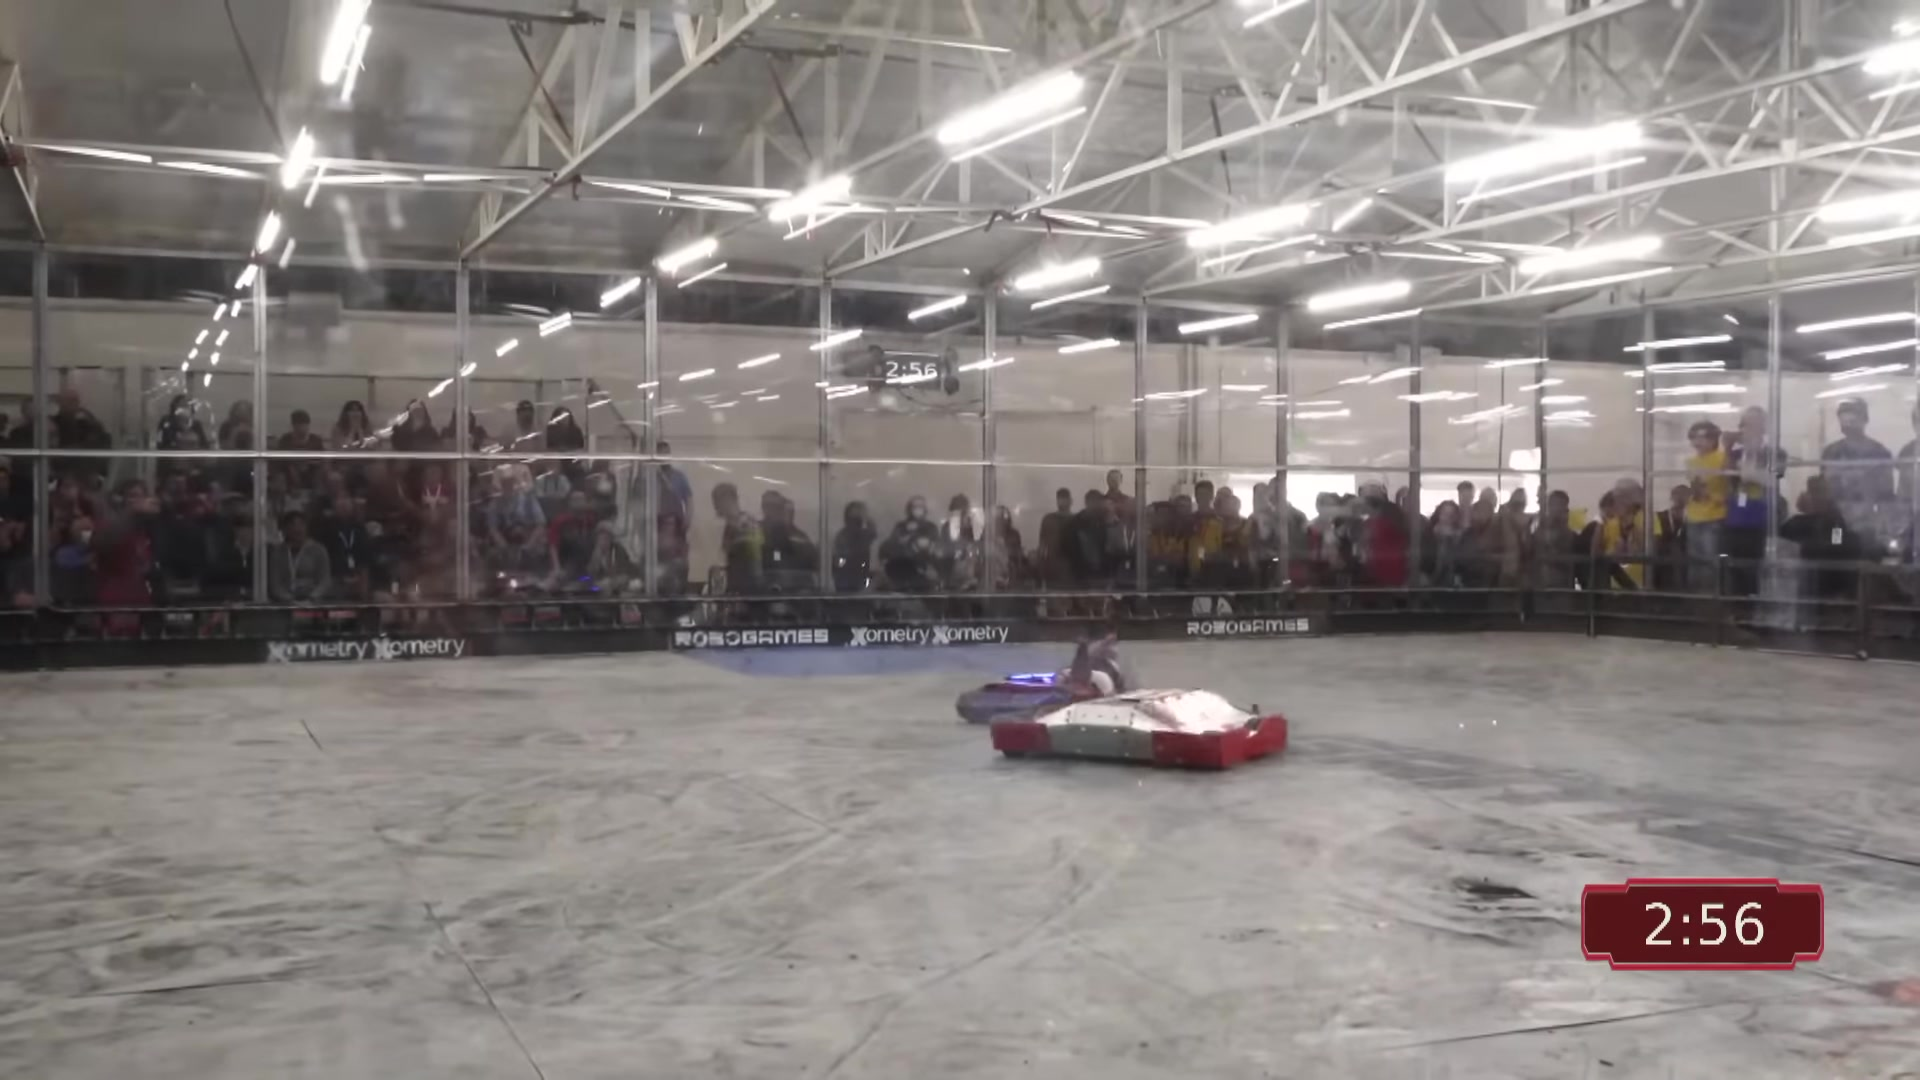combatbot: (988, 691, 1294, 766), (953, 636, 1127, 717)
